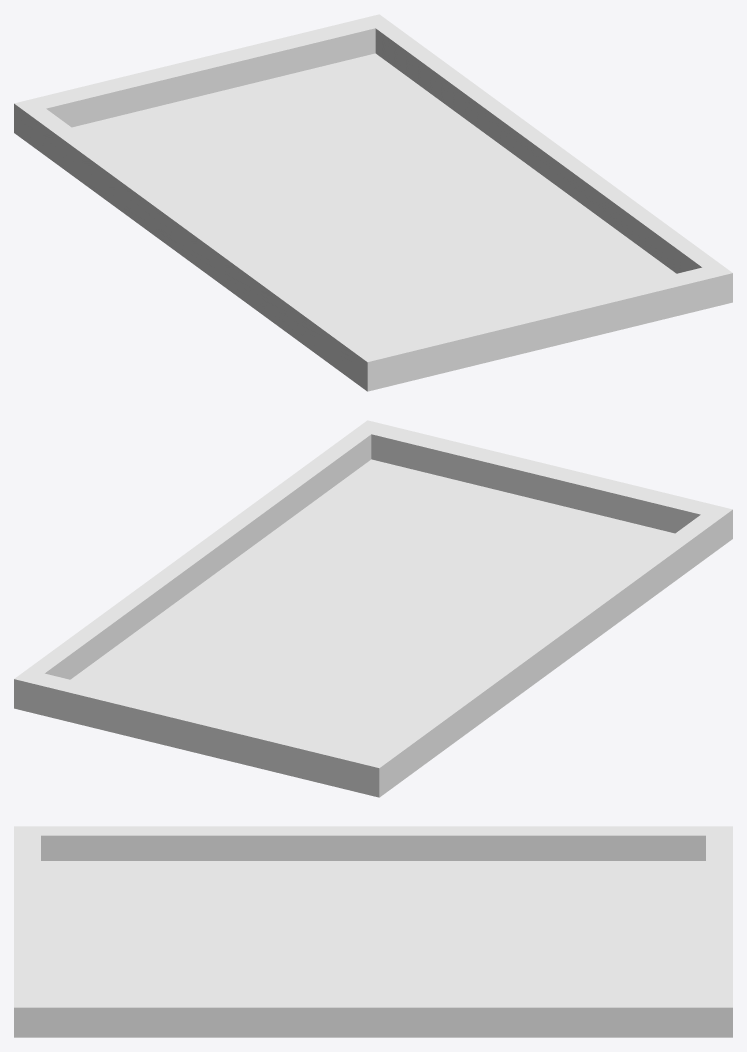
The model's file is Orginizer.fbx.
3 renders of one model, top to bottom at view 1: azimuth 30°, elevation 25°; view 2: azimuth 150°, elevation 25°; view 3: azimuth 270°, elevation 25°, orthographic.
Parts seen in each view (by area): view 1: Cube; view 2: Cube; view 3: Cube.
Boxes of the visible parts, bbox=[...] form: Cube: bbox=[14, 14, 732, 391]; Cube: bbox=[14, 420, 732, 797]; Cube: bbox=[14, 826, 732, 1037].
Size of the model in its own units: 210 by 16.17 by 352.
